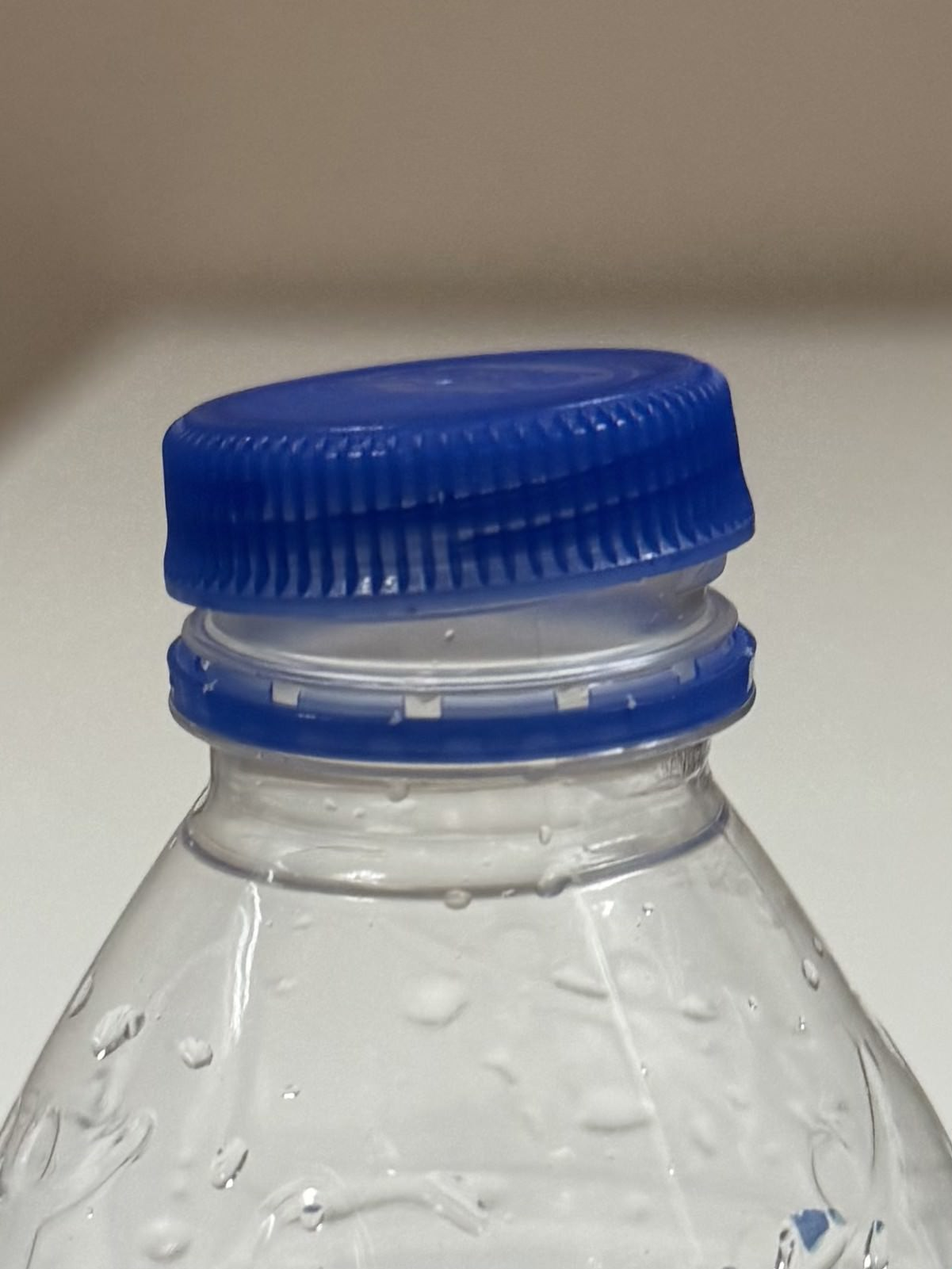half_cap: (159, 339, 760, 786)
